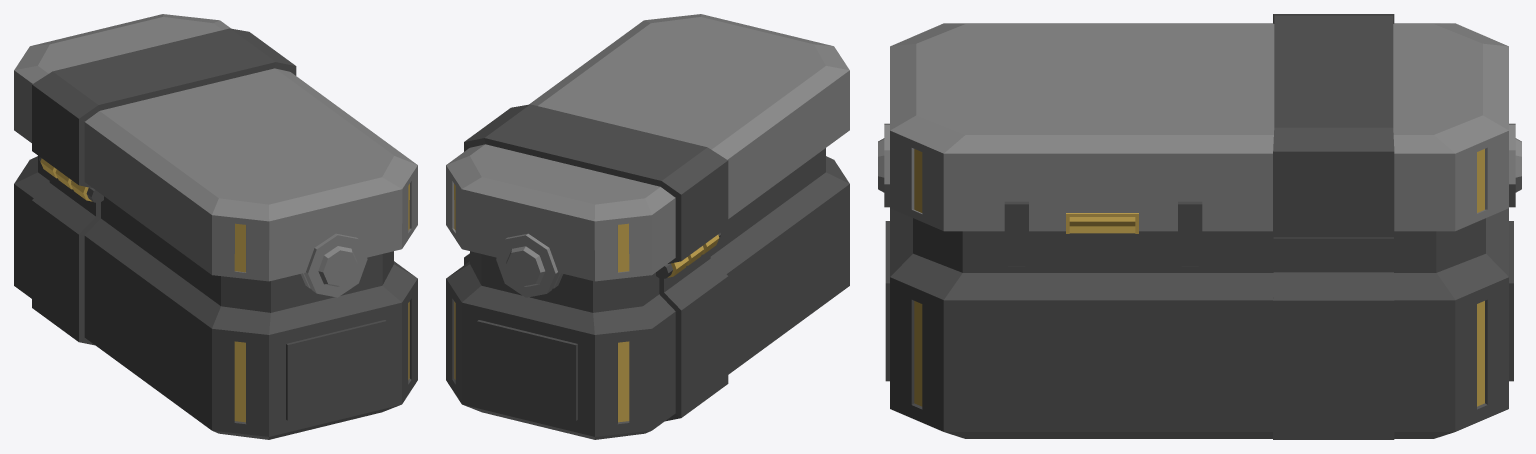
The model's file is Coffre.fbx.
3 views of the same model, side by side, from view 1: azimuth 30°, elevation 25°; view 2: azimuth 150°, elevation 25°; view 3: azimuth 270°, elevation 25° (orthographic). The views are drawn at different scales.
Visible parts, largest first — view 1: CoffreHaut, Coffre; view 2: CoffreHaut, Coffre; view 3: CoffreHaut, Coffre.
Part boxes in pixels (box(x1,y1,x2,y2)): CoffreHaut: box(14, 14, 417, 297); Coffre: box(14, 155, 417, 439); CoffreHaut: box(446, 14, 849, 297); Coffre: box(446, 148, 849, 439); CoffreHaut: box(878, 14, 1521, 270); Coffre: box(885, 208, 1513, 439).
Size of the model in its own units: 68.72 by 72.91 by 136.
